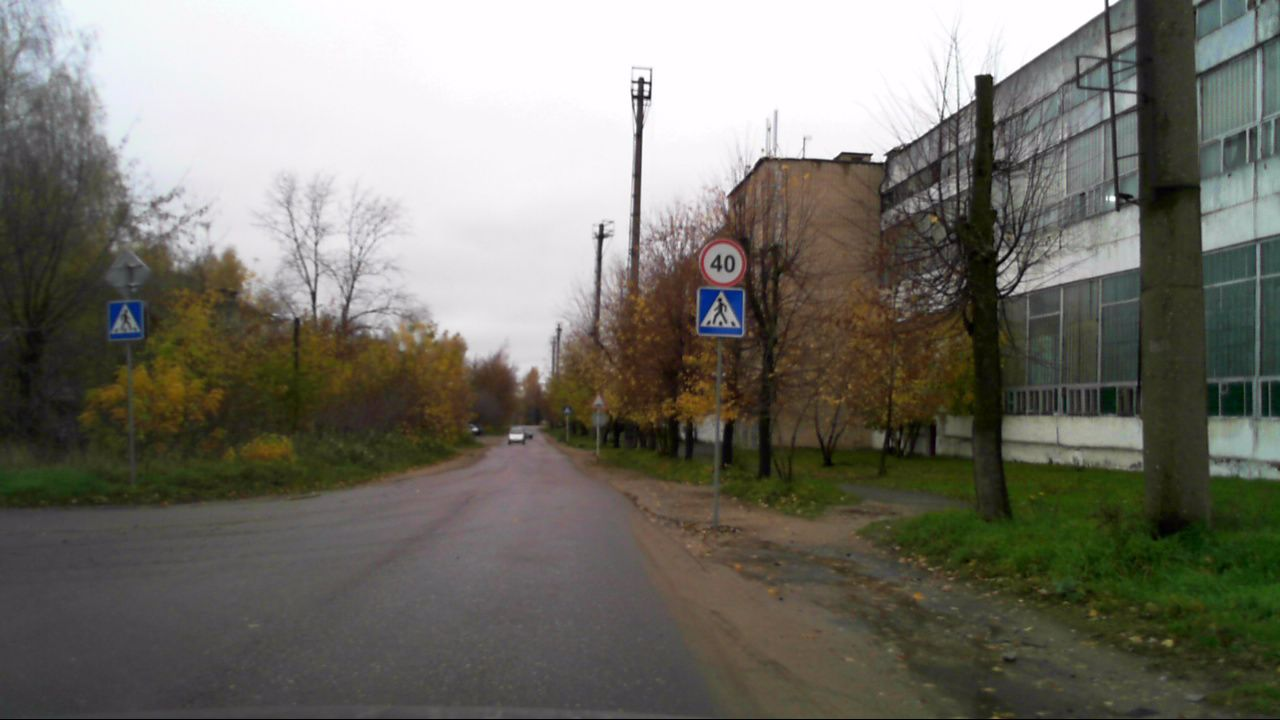speed_warning_40: (697, 238, 746, 288)
